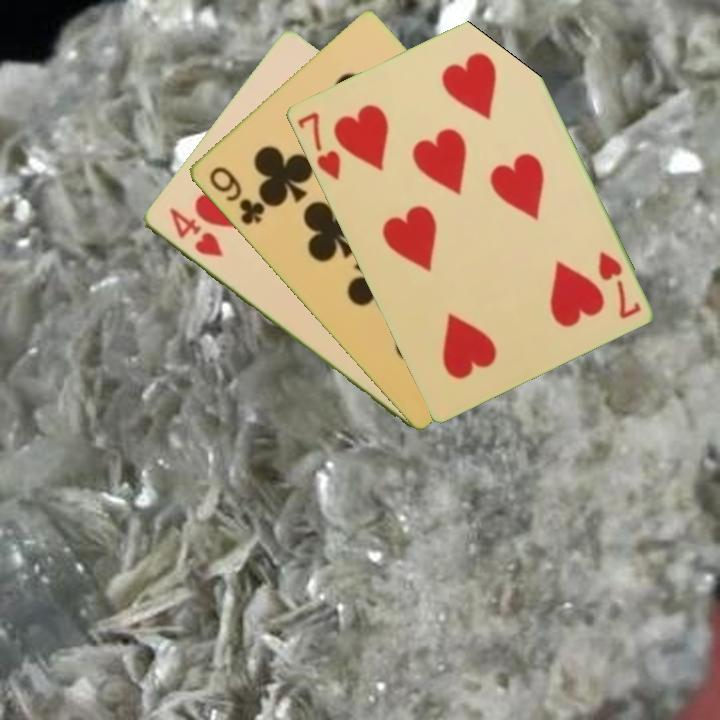4h: (165, 204, 225, 261)
7h: (593, 247, 644, 322), (293, 108, 343, 183)
9c: (204, 162, 268, 228)
